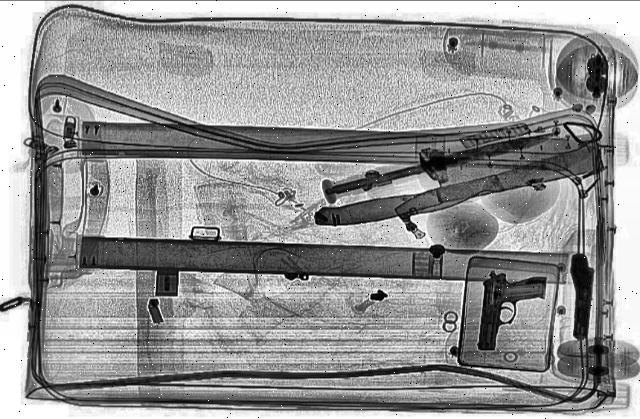Gun: (476, 269, 550, 353), (569, 253, 597, 338)
Knife: (292, 119, 620, 234), (330, 124, 564, 197), (386, 145, 606, 219)
